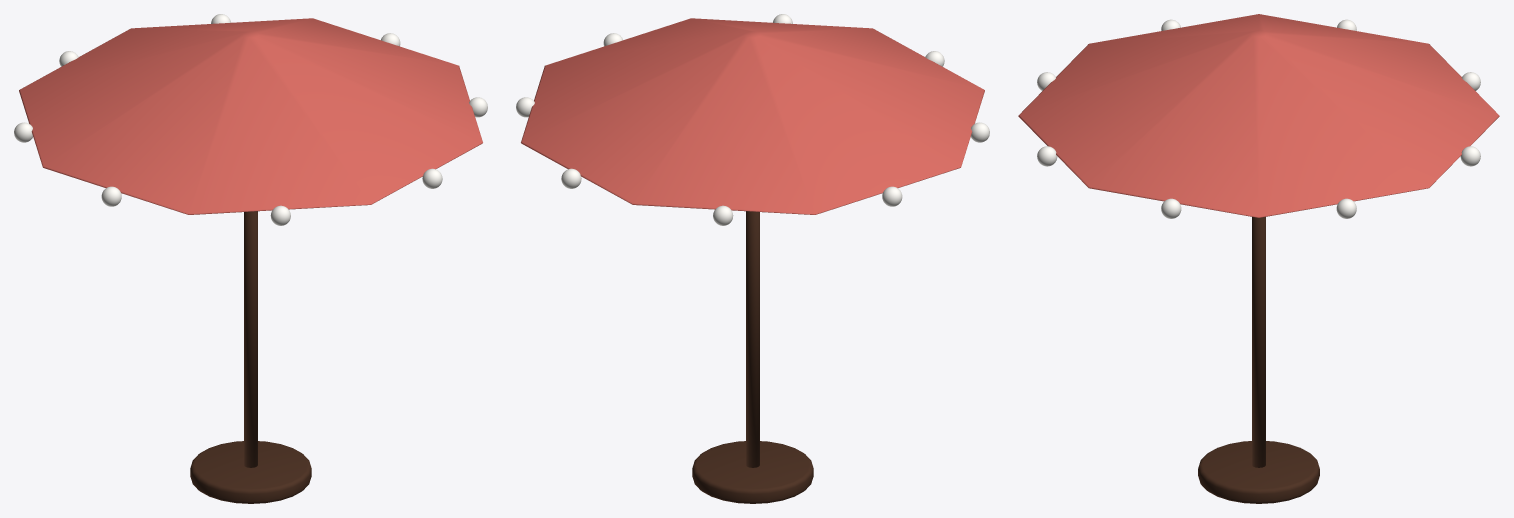
Rendered from parasol_framboise.glb.
3 views of the same model, side by side, from view 1: azimuth 30°, elevation 25°; view 2: azimuth 150°, elevation 25°; view 3: azimuth 270°, elevation 25° (orthographic).
Visible parts, largest first — view 1: toile, pied, mat; view 2: toile, pied, mat; view 3: toile, pied, mat.
Part boxes in pixels (x1=…): toile: x1=19, y1=18, x2=482, y2=214; pied: x1=190, y1=441, x2=311, y2=503; mat: x1=244, y1=211, x2=257, y2=467; toile: x1=521, y1=18, x2=984, y2=214; pied: x1=692, y1=441, x2=813, y2=503; mat: x1=746, y1=211, x2=759, y2=467; toile: x1=1018, y1=14, x2=1499, y2=217; pied: x1=1198, y1=441, x2=1319, y2=503; mat: x1=1252, y1=217, x2=1265, y2=467.
Bounding box in the file's own units: 2.37 × 2.43 × 2.37.
